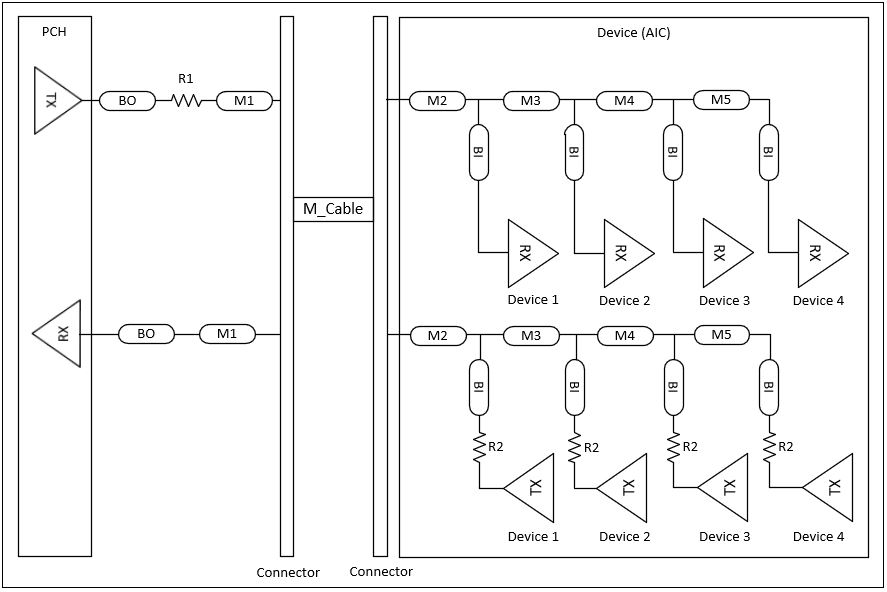oval: (460, 120, 494, 185), (555, 120, 589, 185), (654, 120, 688, 185), (748, 120, 782, 185), (462, 356, 495, 417), (559, 356, 592, 417), (655, 358, 688, 419), (751, 357, 784, 418), (99, 86, 160, 115), (212, 87, 273, 116), (197, 317, 258, 346), (116, 320, 177, 349), (408, 321, 469, 350), (407, 87, 468, 116), (501, 84, 562, 113), (594, 85, 655, 114), (692, 86, 753, 115), (594, 321, 655, 350), (690, 321, 751, 350), (499, 321, 560, 350)
rectangle: (394, 8, 872, 563), (11, 9, 96, 566), (272, 10, 298, 560), (369, 12, 391, 558)
resistor: (464, 425, 491, 465), (562, 427, 589, 467), (658, 427, 685, 467), (758, 425, 785, 465), (166, 88, 203, 113)
triangle: (501, 212, 562, 292), (596, 212, 657, 292), (696, 212, 757, 292), (790, 211, 851, 291), (797, 445, 858, 525), (695, 448, 756, 528), (498, 449, 559, 529), (26, 293, 87, 373), (24, 61, 85, 141), (596, 452, 650, 528)
